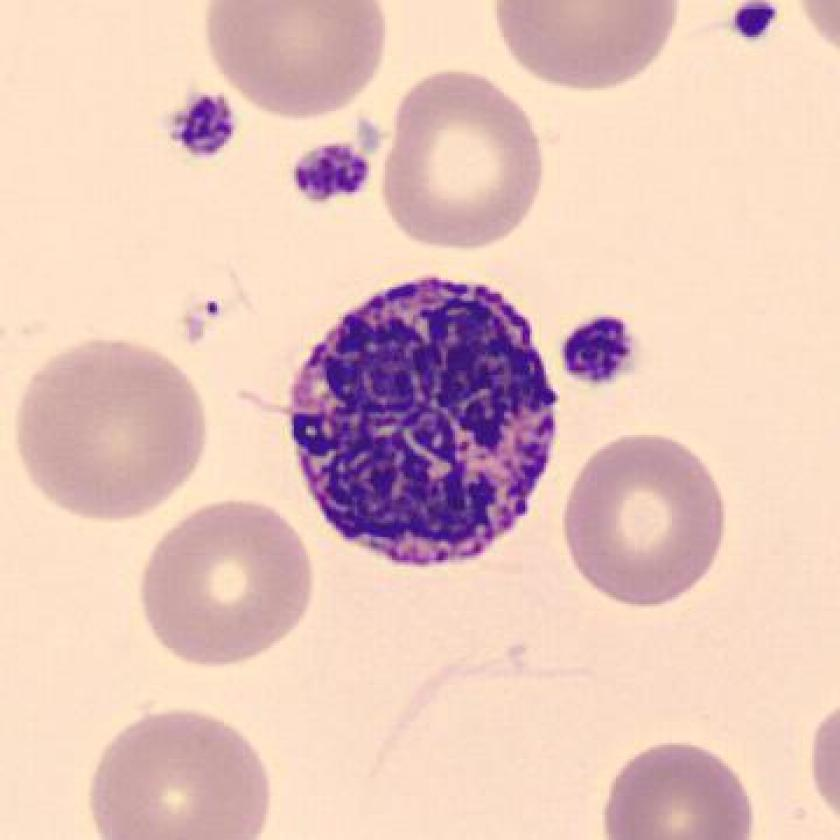basophil: (279, 265, 573, 591)
